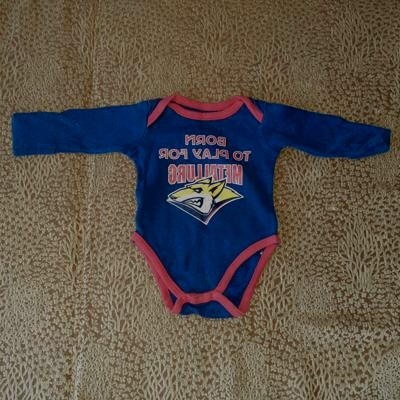Body: (15, 66, 400, 321)
